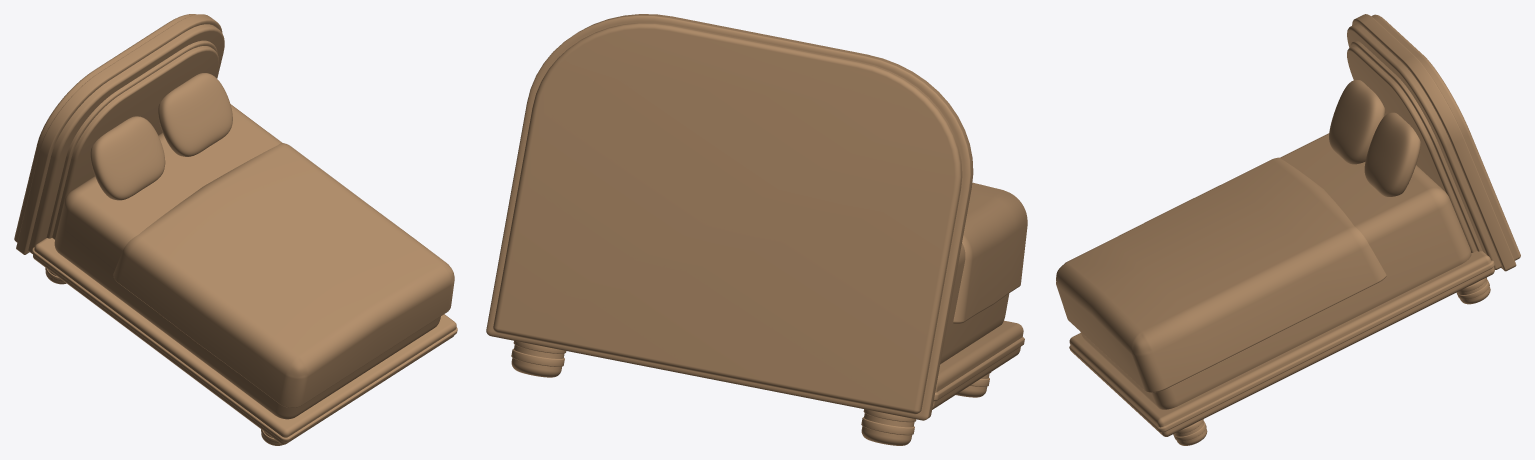
The model's file is double-bed-library-v0.glb.
3 views of the same model, side by side, from view 1: azimuth 30°, elevation 25°; view 2: azimuth 150°, elevation 25°; view 3: azimuth 270°, elevation 25° (orthographic). The views are drawn at different scales.
Visible parts, largest first — view 1: Cube.006, Cube, Cube.004, Cube.001, Cube.002, Cube.003, Cube.375, Cube.374, Cube.376; view 2: Cube.002, Cube.375, Cube.006, Cube.001, Cube, Cylinder, Cylinder.083, Cube.374, Cylinder.082; view 3: Cube.006, Cube, Cube.001, Cube.004, Cube.002, Cube.375, Cube.003, Cube.374, Cube.376, Cylinder.
Boxes of the visible parts, bbox=[...] form: Cube.006: bbox=[113, 143, 454, 407]; Cube: bbox=[54, 104, 440, 419]; Cube.004: bbox=[90, 73, 232, 200]; Cube.001: bbox=[33, 238, 456, 444]; Cube.002: bbox=[14, 14, 224, 253]; Cube.003: bbox=[52, 46, 218, 239]; Cube.375: bbox=[16, 14, 222, 254]; Cube.374: bbox=[32, 247, 457, 441]; Cube.376: bbox=[46, 40, 217, 238]; Cube.002: bbox=[493, 22, 962, 414]; Cube.375: bbox=[486, 14, 973, 420]; Cube.006: bbox=[953, 182, 1027, 323]; Cube.001: bbox=[932, 320, 1023, 409]; Cube: bbox=[940, 243, 1009, 363]; Cylinder: bbox=[511, 345, 989, 445]; Cylinder.083: bbox=[511, 348, 989, 435]; Cube.374: bbox=[933, 337, 1024, 401]; Cylinder.082: bbox=[513, 341, 991, 422]; Cube.006: bbox=[1056, 157, 1386, 392]; Cube: bbox=[1080, 133, 1471, 409]; Cube.001: bbox=[1069, 251, 1494, 436]; Cube.004: bbox=[1329, 80, 1420, 196]; Cube.002: bbox=[1347, 14, 1520, 269]; Cube.375: bbox=[1352, 14, 1516, 271]; Cube.003: bbox=[1347, 46, 1476, 252]; Cube.374: bbox=[1069, 260, 1494, 432]; Cube.376: bbox=[1350, 40, 1482, 251]; Cylinder: bbox=[1174, 279, 1490, 445].
Size of the model in its own units: 1.77 by 1.64 by 2.03.
